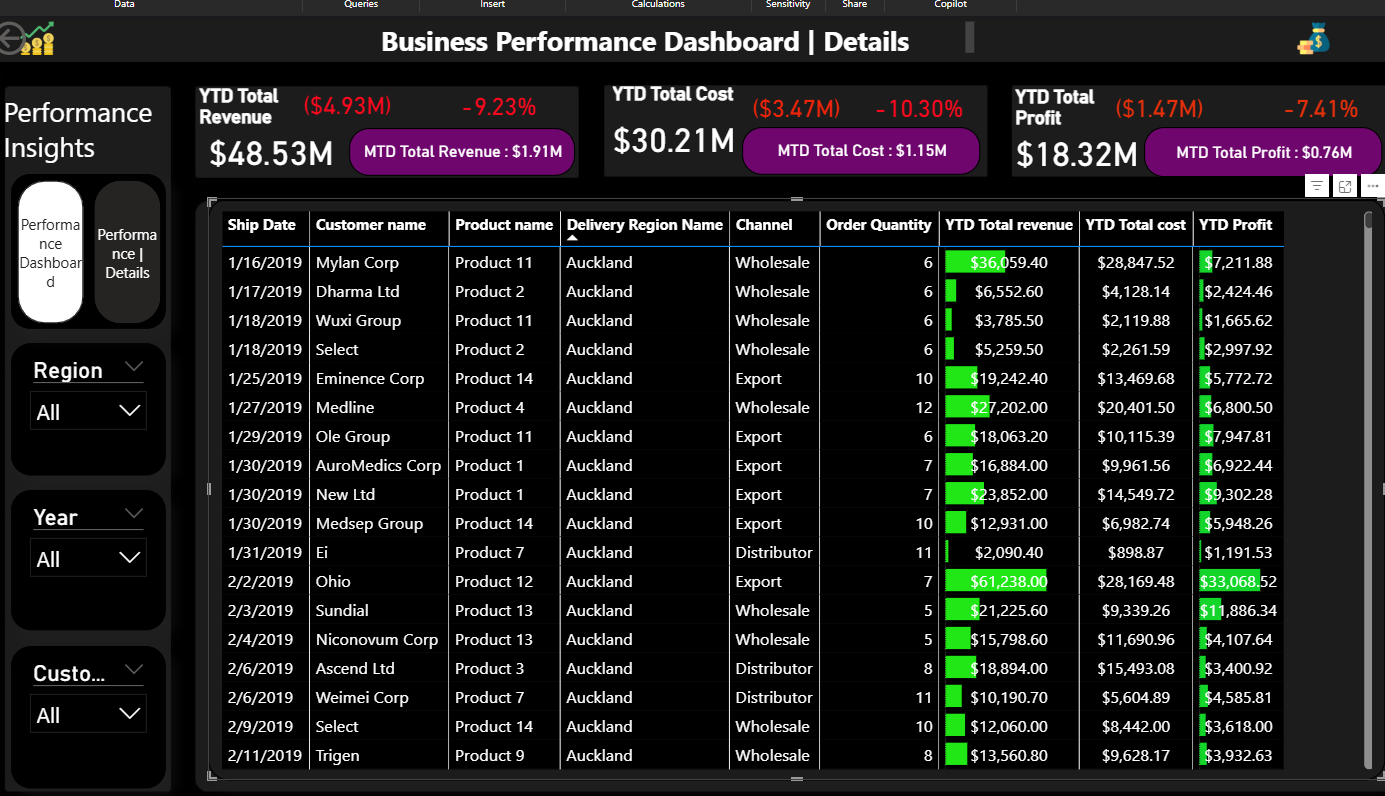

What the dashboard file says about the page in this screenshot:
{"tool":"powerbi","page":{"name":" Performance | Details","canvas":[1280,720],"ordinal":1},"visuals":[{"type":"card","title":"YTD Total Revenue","fields":{"Values":["FactSales.YTD Total revenue"]},"box":[185.7,60.9,138.9,82.2],"z":0},{"type":"card","title":"YTD Total Revenue","fields":{"Values":["FactSales.Total Revenue Difference"]},"box":[275,58.1,97.8,42.5],"z":1000},{"type":"card","title":"YTD Total Revenue","fields":{"Values":["FactSales.YoY Growth Cost"]},"box":[780.9,60.9,110.6,42.5],"z":2000},{"type":"card","fields":{"Values":["FactSales.MTD revenue Kpi"]},"box":[324.6,100.6,202.7,42.5],"z":3000},{"type":"card","title":"YTD Total Cost","fields":{"Values":["FactSales.YTD Total cost"]},"box":[557,59.5,120.5,82.2],"z":4000},{"type":"card","title":"YTD Total Revenue","fields":{"Values":["FactSales.Total Cost Difference"]},"box":[677.5,60.9,97.8,42.5],"z":5000},{"type":"card","title":"YTD Total Revenue","fields":{"Values":["FactSales.YoY Revenue Growth"]},"box":[403.9,59.5,110.6,42.5],"z":6000},{"type":"card","fields":{"Values":["FactSales.Total Cost KPI"]},"box":[677.5,99.2,214,42.5],"z":7000},{"type":"card","title":"YTD Total Profit","fields":{"Values":["FactSales.YTD Profit"]},"box":[918.4,62.4,120.5,82.2],"z":8000},{"type":"card","title":"YTD Total Revenue","fields":{"Values":["FactSales.Total Profit Difference"]},"box":[1003.5,60.9,97.8,42.5],"z":9000},{"type":"card","title":"YTD Total Revenue","fields":{"Values":["FactSales.YoY Profit Growth"]},"box":[1142.4,60.9,110.6,42.5],"z":10000},{"type":"card","fields":{"Values":["FactSales.Profi KPI"]},"box":[1038.9,99.2,214,45.4],"z":11000},{"type":"slicer","fields":{"Values":["DimRegion.Delivery Region Name"]},"box":[21.3,293.4,138.9,119.1],"z":12000},{"type":"slicer","fields":{"Values":["Date_Table.Year"]},"box":[21.3,425.2,138.9,126.1],"z":13000},{"type":"slicer","fields":{"Values":["DimCustomer.Customer name"]},"box":[21.3,565.5,138.9,127.6],"z":14000},{"type":"textbox","box":[348.7,0,542.8,39.7],"z":15000},{"type":"image","box":[9.9,0,69.4,39.7],"z":16000},{"type":"image","box":[1129.6,0,123.3,39.7],"z":17000},{"type":"textbox","box":[9.9,63.8,150.2,80.8],"z":18000},{"type":"tableEx","fields":{"Values":["FactSales.Ship Date","DimCustomer.Customer name","DimProducts.Product name","DimRegion.Delivery Region Name","DimRegion.Channel","DimProducts.Order Quantity","FactSales.YTD Total revenue","FactSales.YTD Total cost","FactSales.YTD Profit"]},"box":[198.4,163,1057.3,523],"z":19000},{"type":"actionButton","box":[0,0,100,40],"z":20000},{"type":"pageNavigator","box":[21.3,141.7,138.9,138.9],"z":21000}]}

Visuals, with their boxes on the page's 1280x720 design canvas (x1, y1, x2, y2). These are canvas units, not pixel positions in the 1385x796 screenshot, which may show the page scaled, cropped or inside an application window:
"YTD Total Revenue" card: Rect(186, 61, 325, 143)
"YTD Total Revenue" card: Rect(275, 58, 373, 101)
"YTD Total Revenue" card: Rect(781, 61, 892, 103)
card - FactSales.MTD revenue Kpi: Rect(325, 101, 527, 143)
"YTD Total Cost" card: Rect(557, 60, 678, 142)
"YTD Total Revenue" card: Rect(678, 61, 775, 103)
"YTD Total Revenue" card: Rect(404, 60, 514, 102)
card - FactSales.Total Cost KPI: Rect(678, 99, 892, 142)
"YTD Total Profit" card: Rect(918, 62, 1039, 145)
"YTD Total Revenue" card: Rect(1004, 61, 1101, 103)
"YTD Total Revenue" card: Rect(1142, 61, 1253, 103)
card - FactSales.Profi KPI: Rect(1039, 99, 1253, 145)
slicer - DimRegion.Delivery Region Name: Rect(21, 293, 160, 412)
slicer - Date_Table.Year: Rect(21, 425, 160, 551)
slicer - DimCustomer.Customer name: Rect(21, 566, 160, 693)
textbox: Rect(349, 0, 892, 40)
image: Rect(10, 0, 79, 40)
image: Rect(1130, 0, 1253, 40)
textbox: Rect(10, 64, 160, 145)
tableEx - FactSales.Ship Date x DimCustomer.Customer name: Rect(198, 163, 1256, 686)
actionButton: Rect(0, 0, 100, 40)
pageNavigator: Rect(21, 142, 160, 281)
